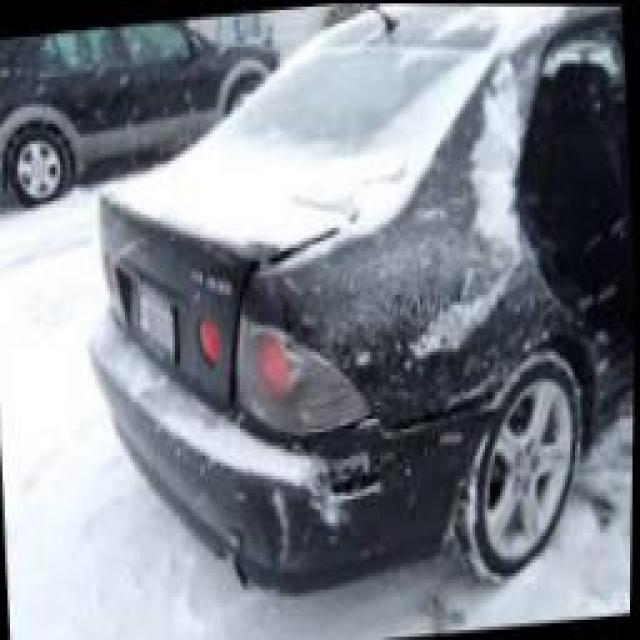Bumper: (188, 432, 385, 591), (325, 379, 509, 517)
Dickey: (109, 173, 370, 422)
